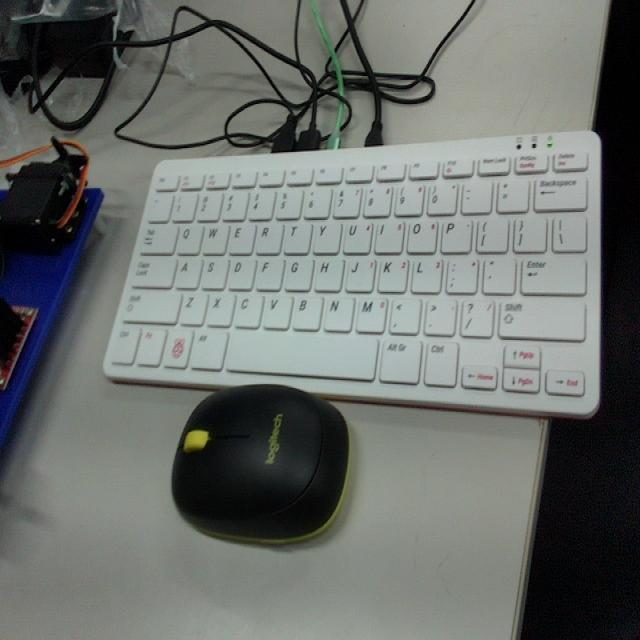keyboard: (102, 145, 594, 399)
